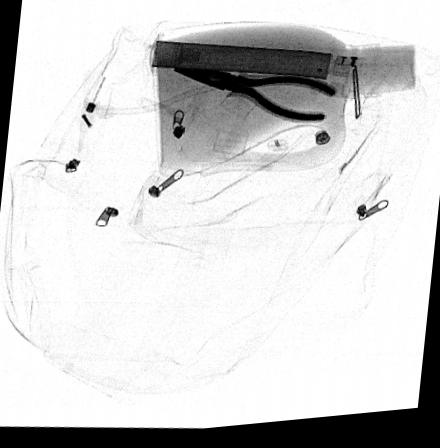Pliers: (170, 68, 342, 128)
